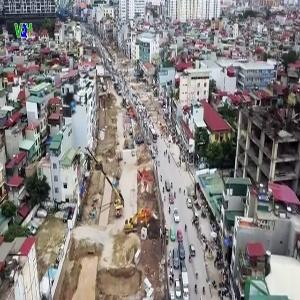drone: (35, 64, 106, 135)
